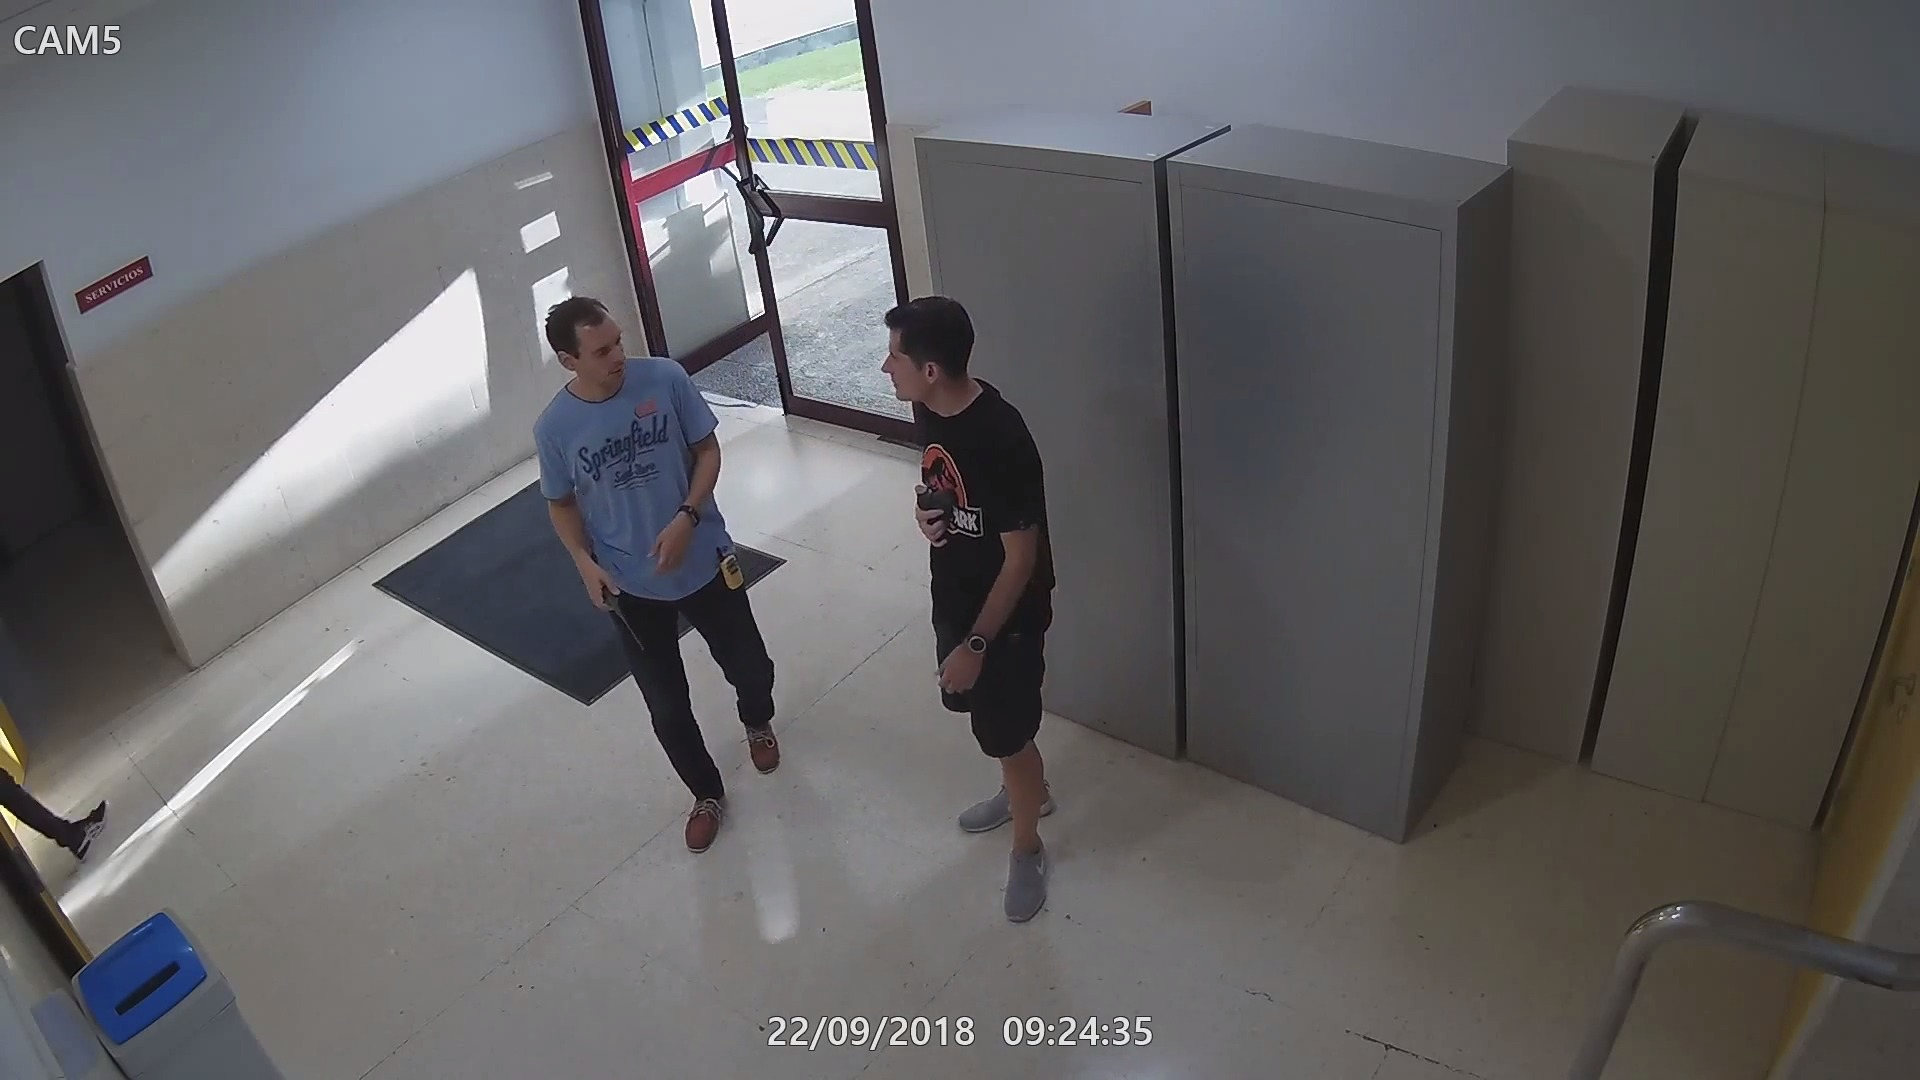Handgun: (916, 485, 961, 547)
Knife: (596, 580, 655, 651)
